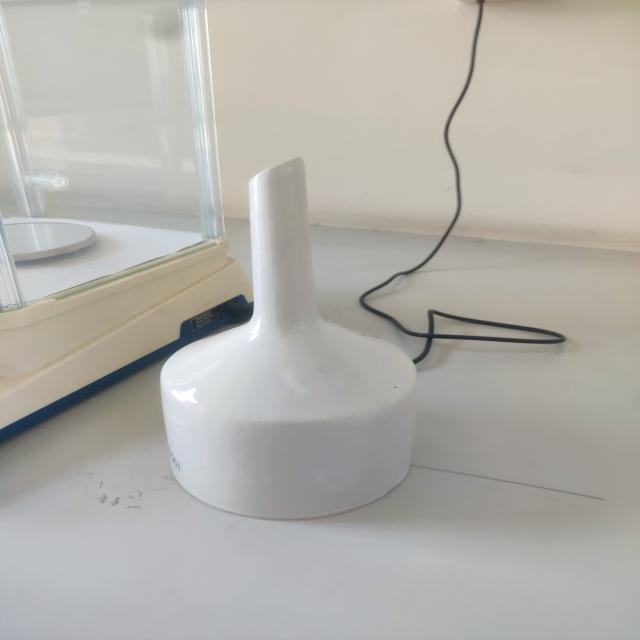Buchner_Funnel: (118, 124, 458, 548)
